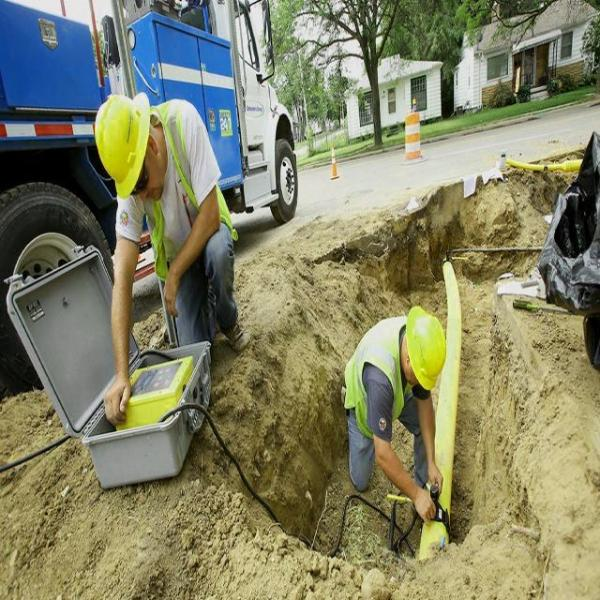no leak: (435, 266, 505, 318)
